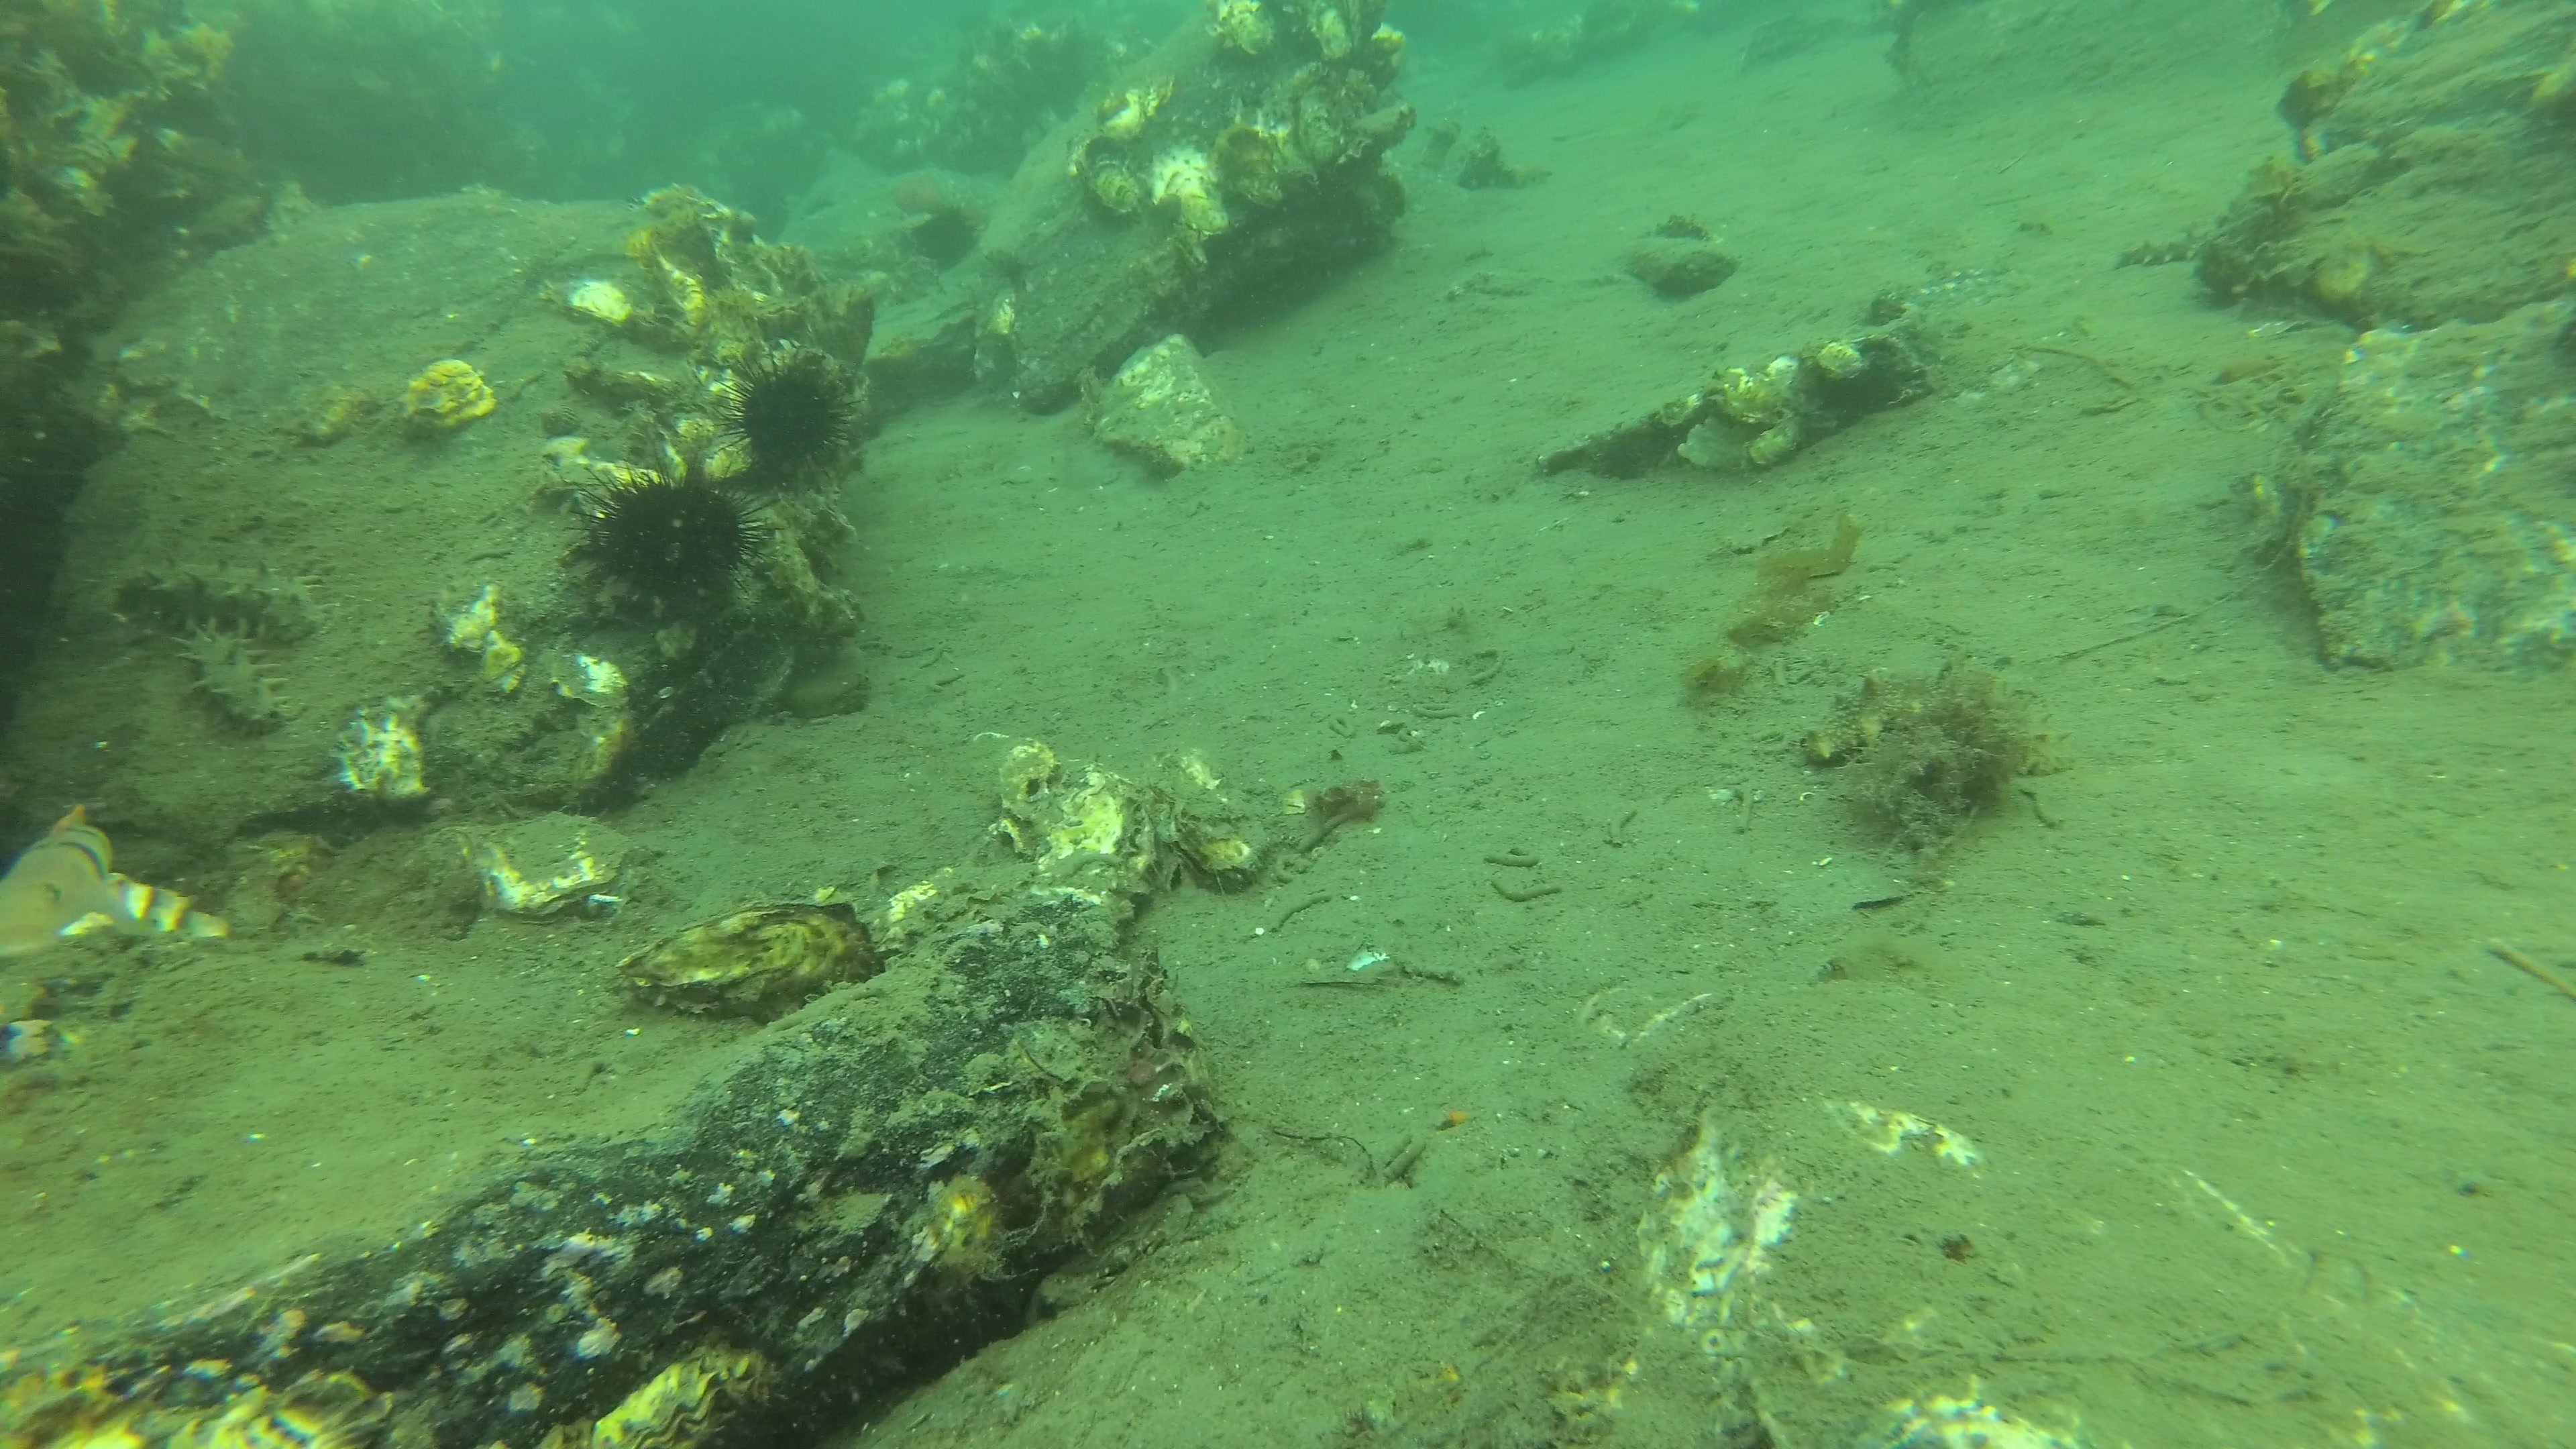echinus: (570, 455, 780, 623), (709, 331, 867, 481), (885, 189, 1001, 299)
holothurian: (104, 554, 324, 635), (172, 616, 297, 743)
